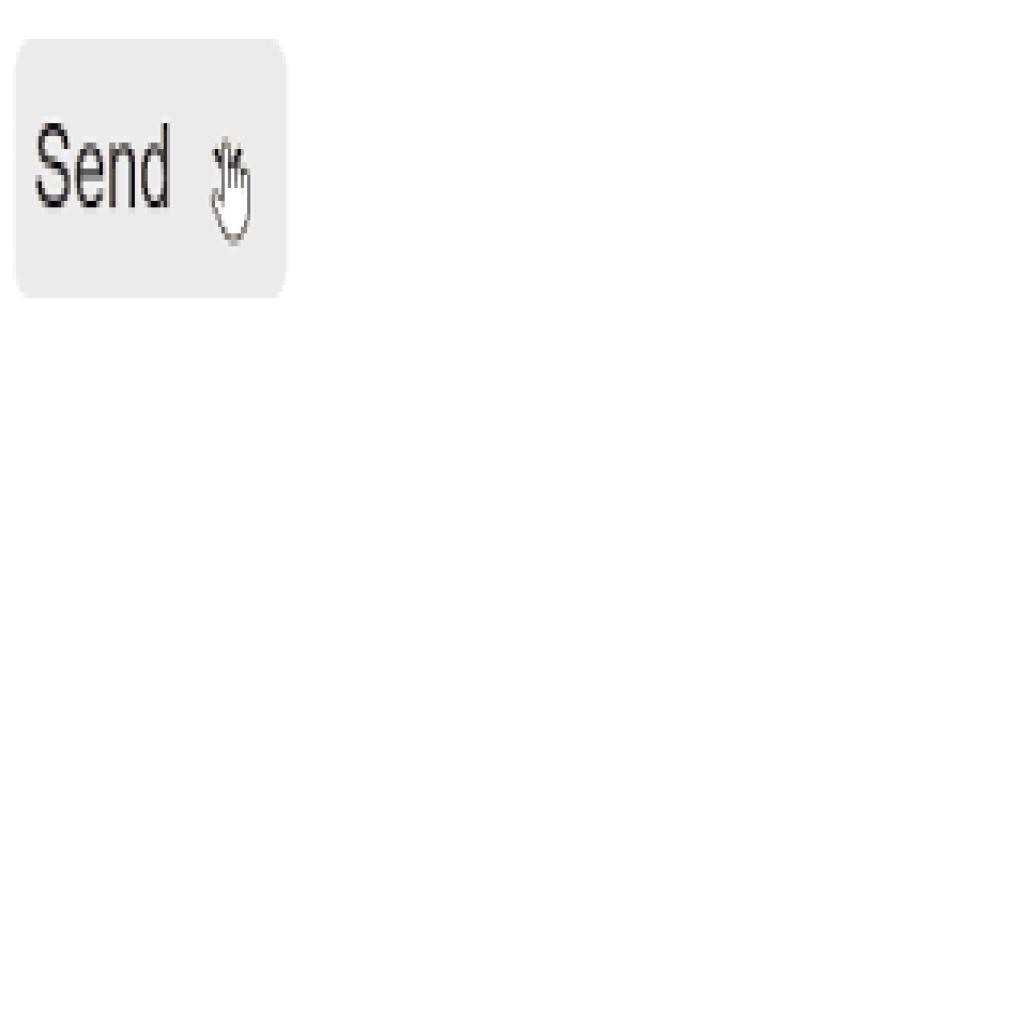button: (18, 40, 287, 300)
